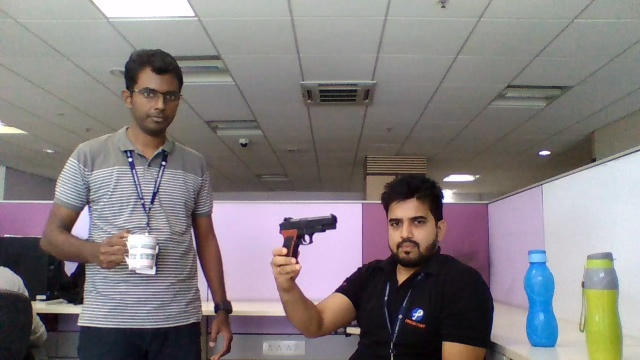gun: (279, 213, 338, 246)
